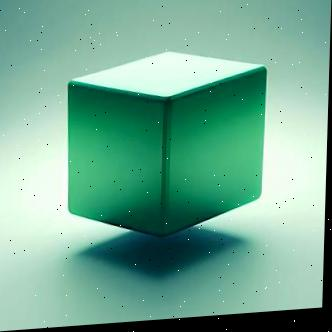cube: (65, 48, 268, 247)
